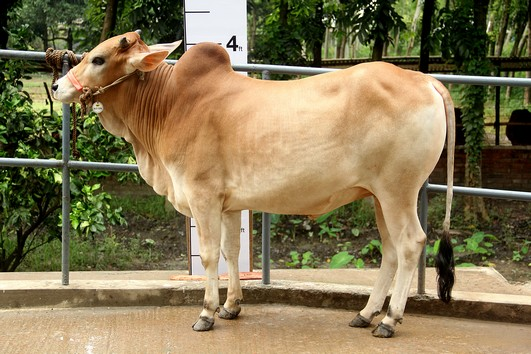cow: (45, 25, 469, 337)
